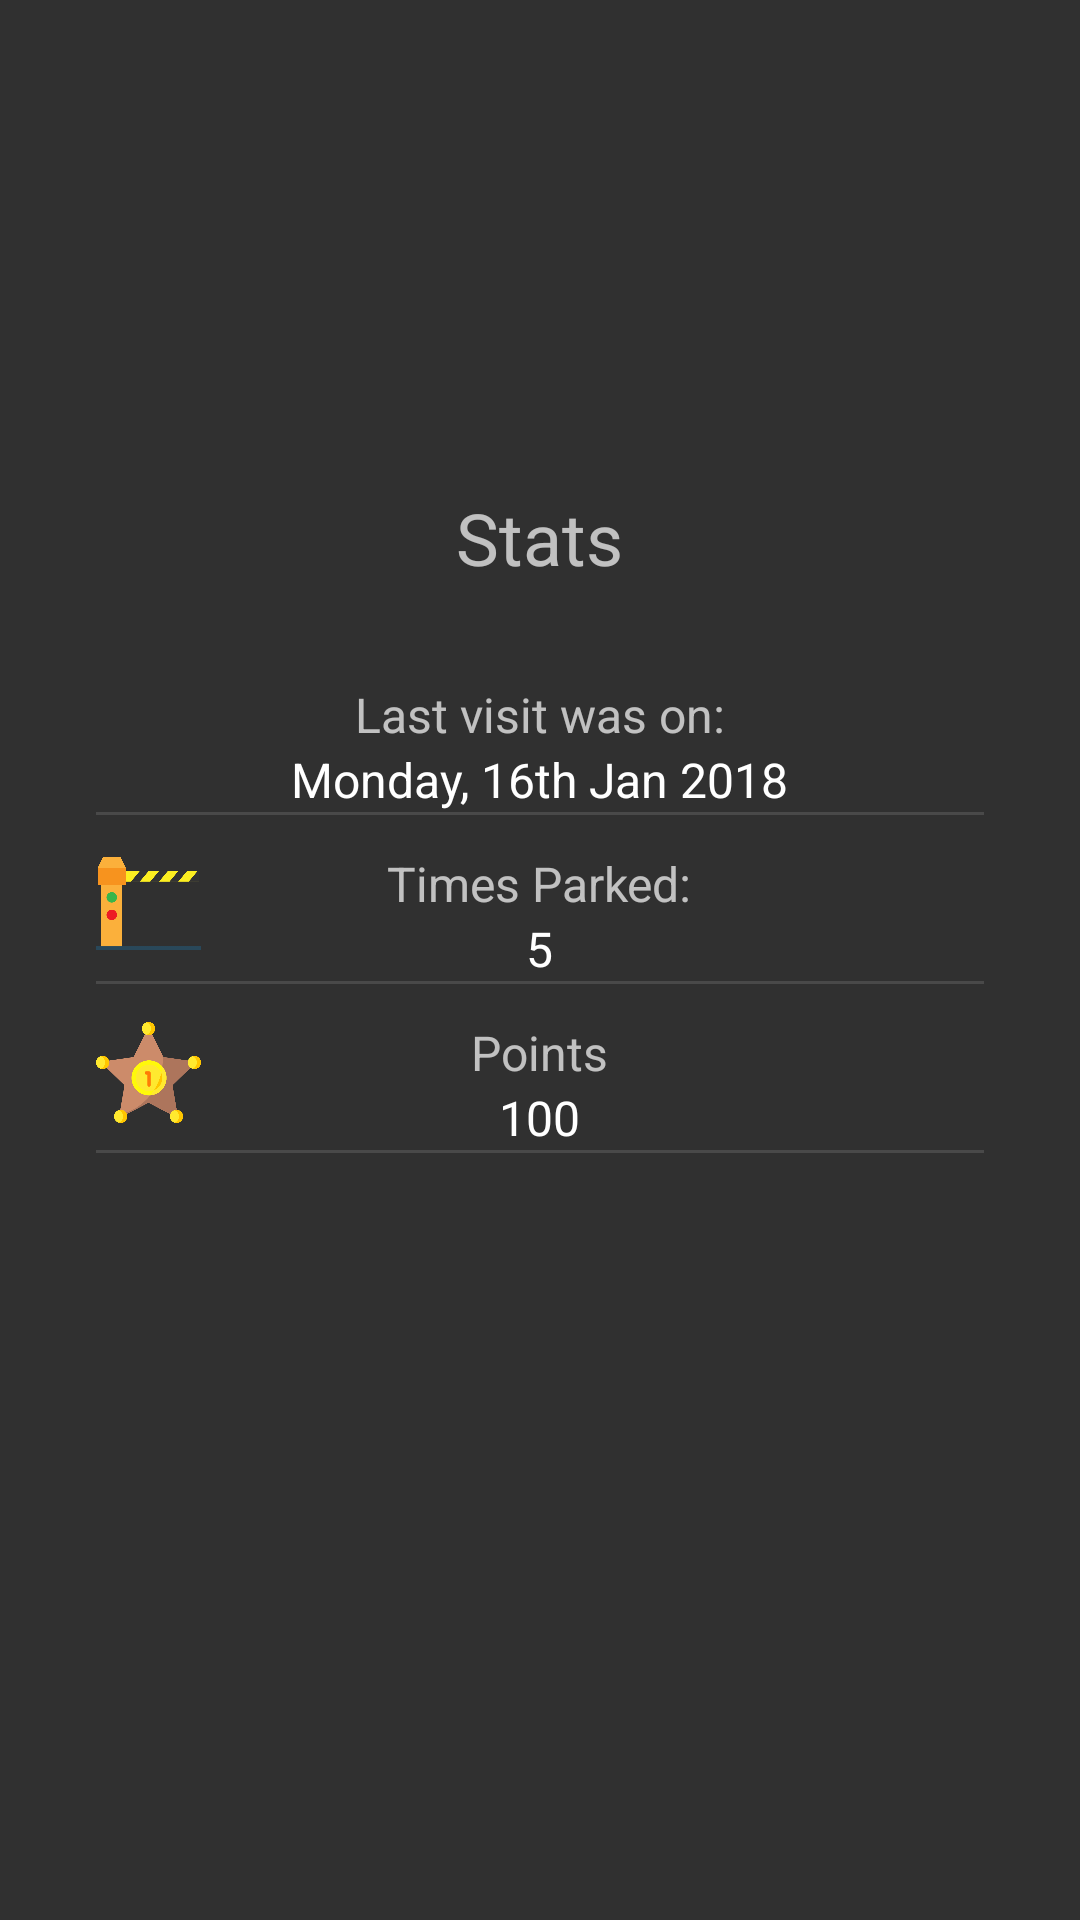

Screen size 1080x1920. Icon name, then its center in pixels as point (x, y):
Times Parked: point (148, 903)
